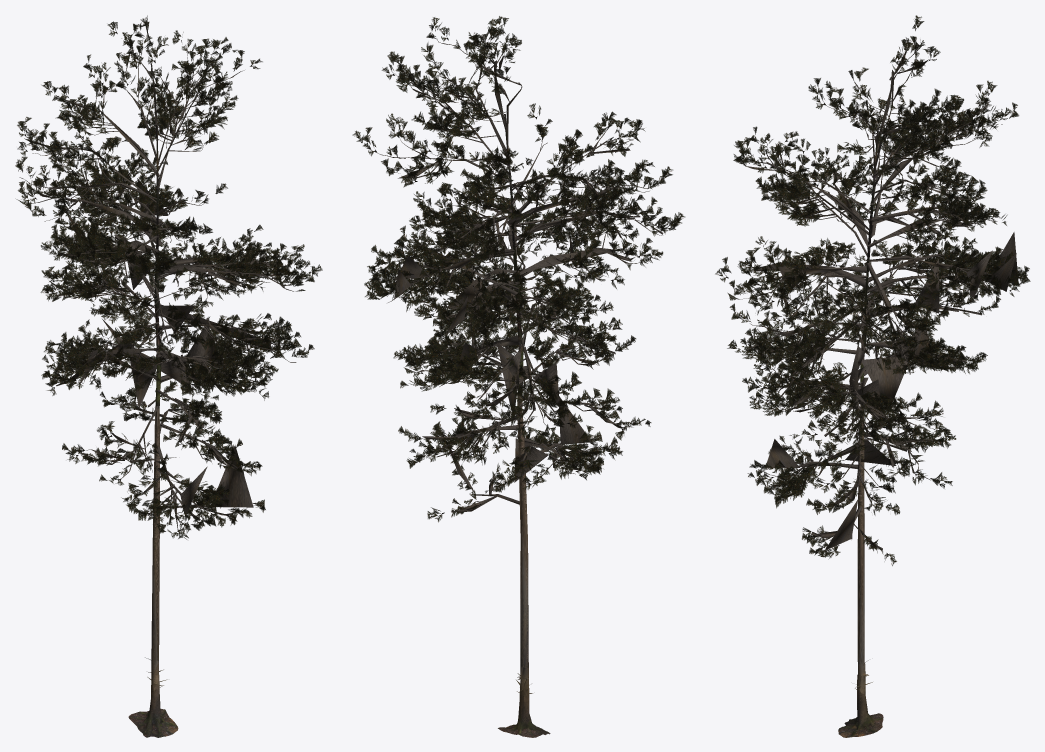
The model's file is pine_tree_01_a_far.glb.
3 views of the same model, side by side, from view 1: azimuth 30°, elevation 25°; view 2: azimuth 150°, elevation 25°; view 3: azimuth 270°, elevation 25° (orthographic). The views are drawn at different scales.
Parts seen in each view (by area): view 1: pine_tree_01_a_far; view 2: pine_tree_01_a_far; view 3: pine_tree_01_a_far.
Boxes of the visible parts, bbox=[...] form: pine_tree_01_a_far: bbox=[15, 15, 322, 737]; pine_tree_01_a_far: bbox=[352, 16, 685, 737]; pine_tree_01_a_far: bbox=[715, 15, 1030, 737].
Size of the model in its own units: 7.58 by 20.39 by 8.26.
3 materials, 3 textured.
